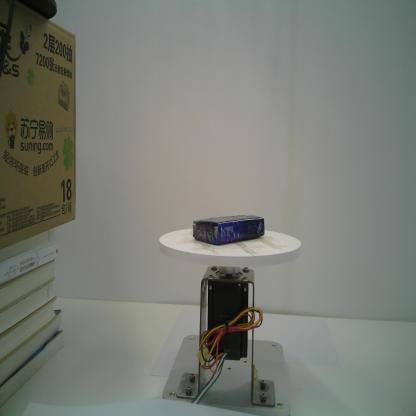Gum: (191, 214, 266, 245)
